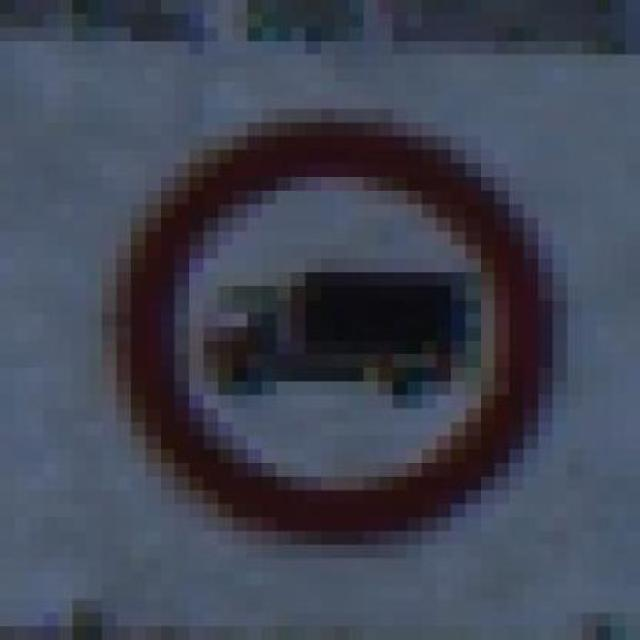Truck traffic is prohibited: (87, 82, 567, 530)
